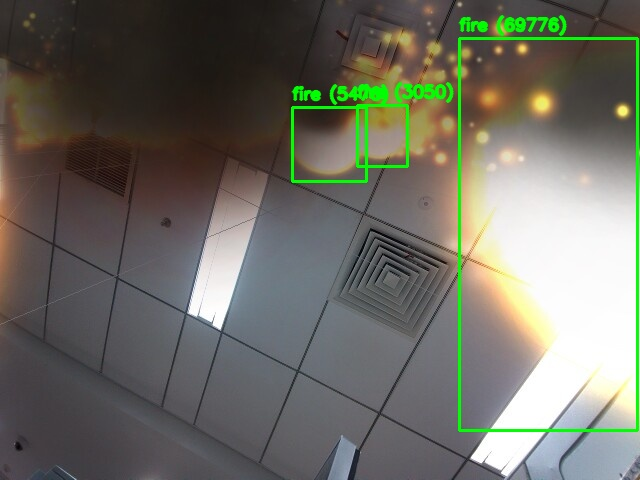fire: (459, 38, 637, 430), (292, 107, 366, 181), (357, 105, 407, 166)
